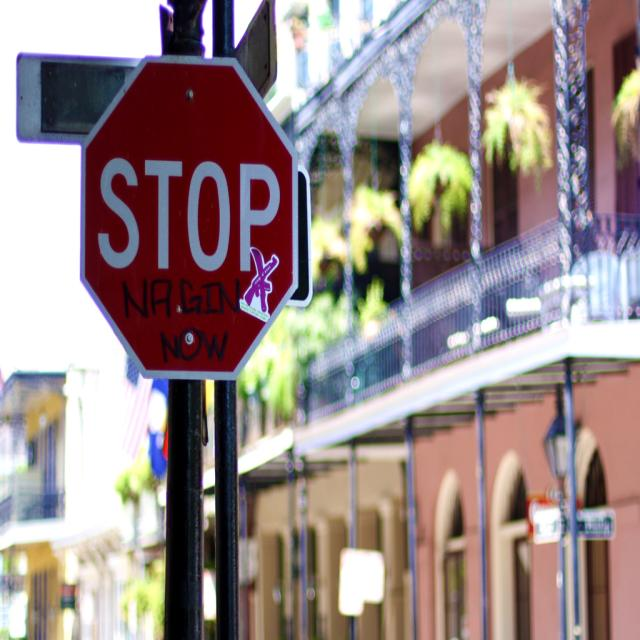Stop-sign: (78, 51, 299, 382)
